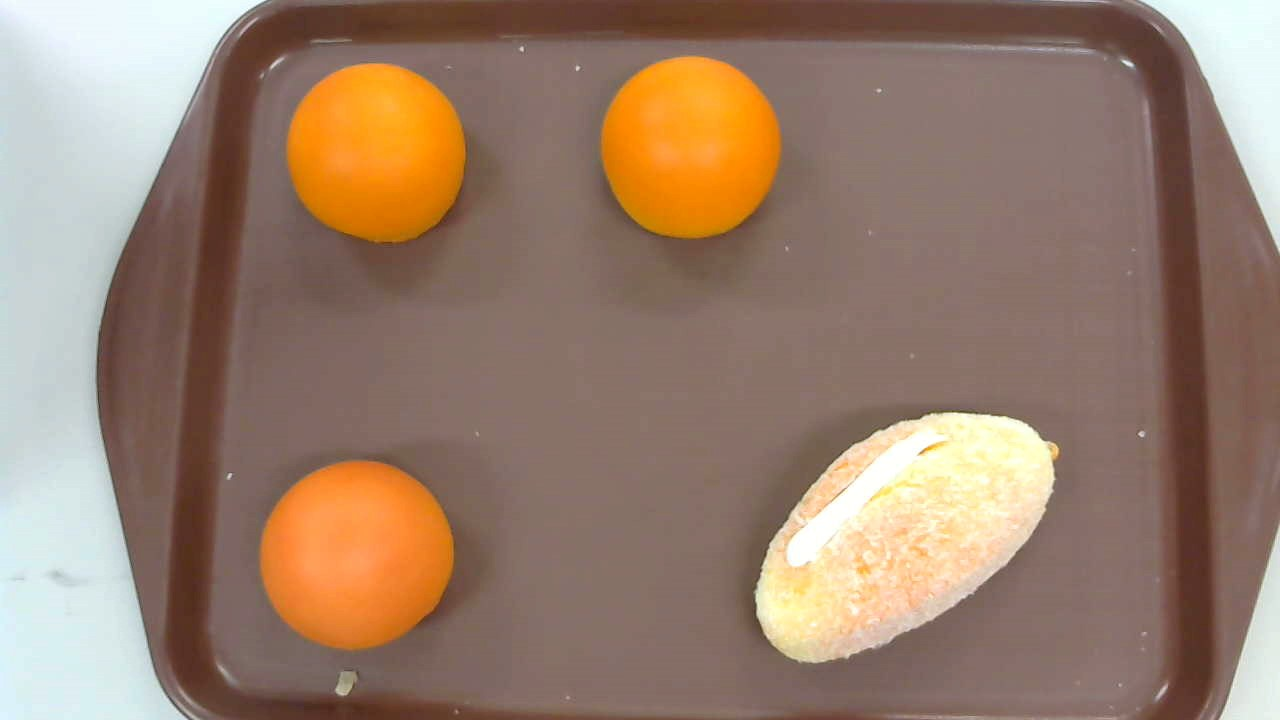bun: (259, 457, 454, 651), (286, 63, 467, 245), (601, 56, 781, 236)
coconut: (754, 412, 1060, 666)
